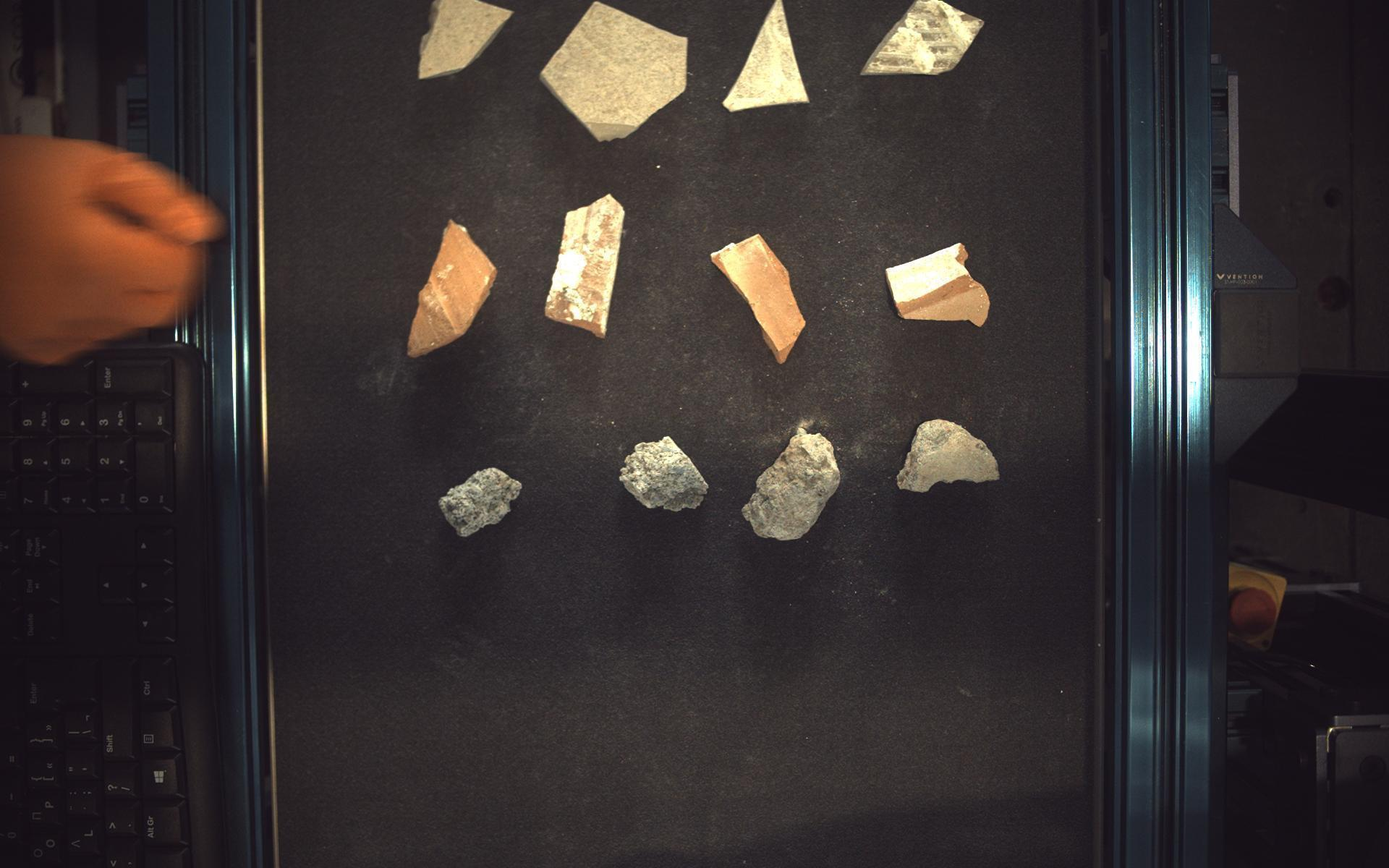brick: (407, 219, 497, 357), (712, 234, 807, 362), (545, 194, 625, 337), (888, 243, 992, 326)
concrete: (744, 429, 842, 541), (899, 420, 1002, 493), (621, 437, 708, 512), (439, 469, 522, 537)
tile: (541, 1, 689, 140), (725, 1, 810, 110), (863, 1, 986, 74), (418, 1, 512, 77)
